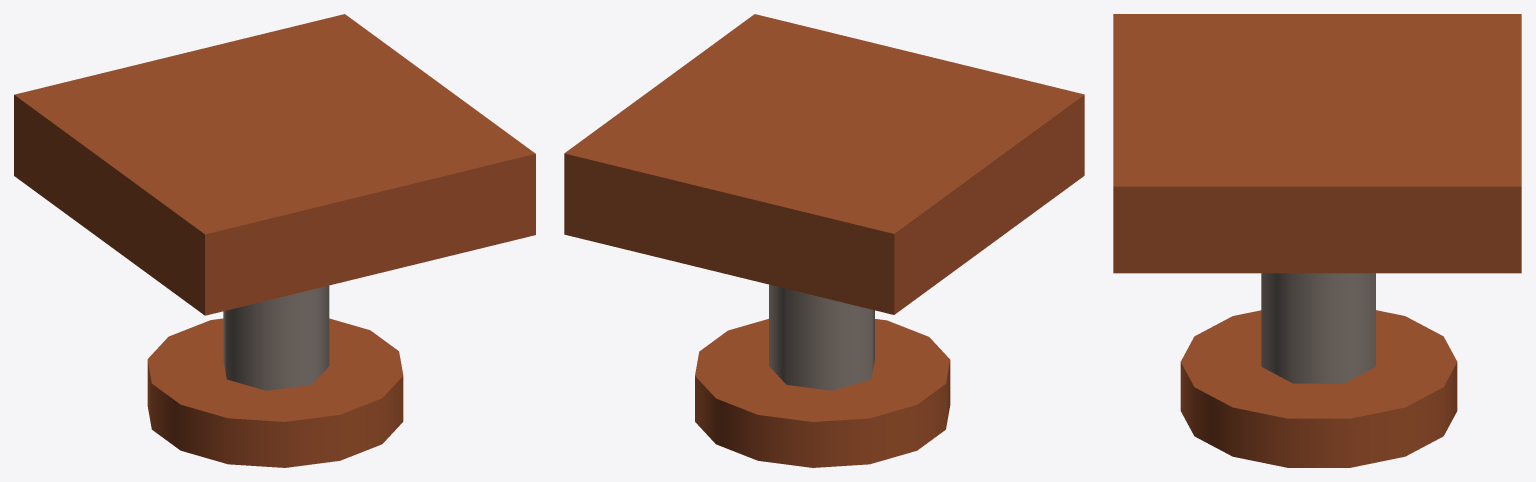
Rendered from table_07.fbx.
3 renders of one model, left to right at view 1: azimuth 30°, elevation 25°; view 2: azimuth 150°, elevation 25°; view 3: azimuth 270°, elevation 25°, orthographic. The views are drawn at different scales.
Visible parts, largest first — view 1: table_07; view 2: table_07; view 3: table_07.
Part boxes in pixels (left/top/right/bottom): table_07: left=14, top=14, right=535, bottom=467; table_07: left=564, top=14, right=1084, bottom=467; table_07: left=1113, top=14, right=1521, bottom=467.
Size of the model in its own units: 72.54 by 60.78 by 72.54.
